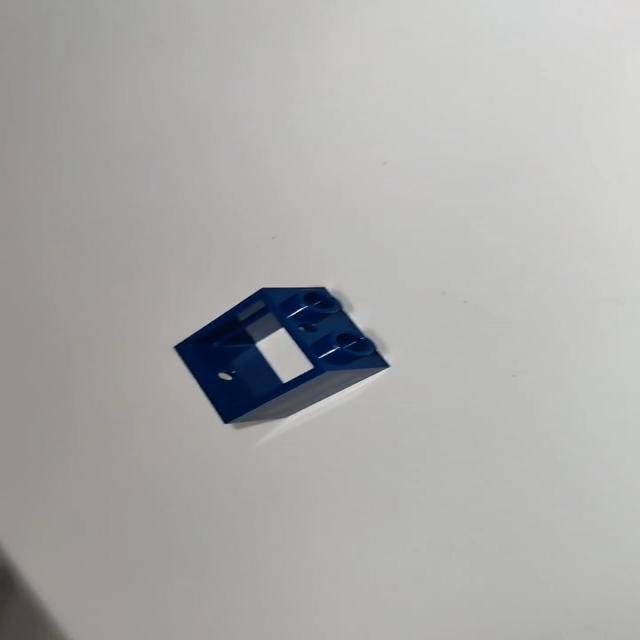W2x1x2: (164, 283, 400, 433)
